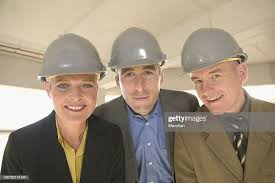Person_wearing_helmet: (179, 20, 250, 88), (34, 30, 106, 91), (113, 25, 165, 83)
